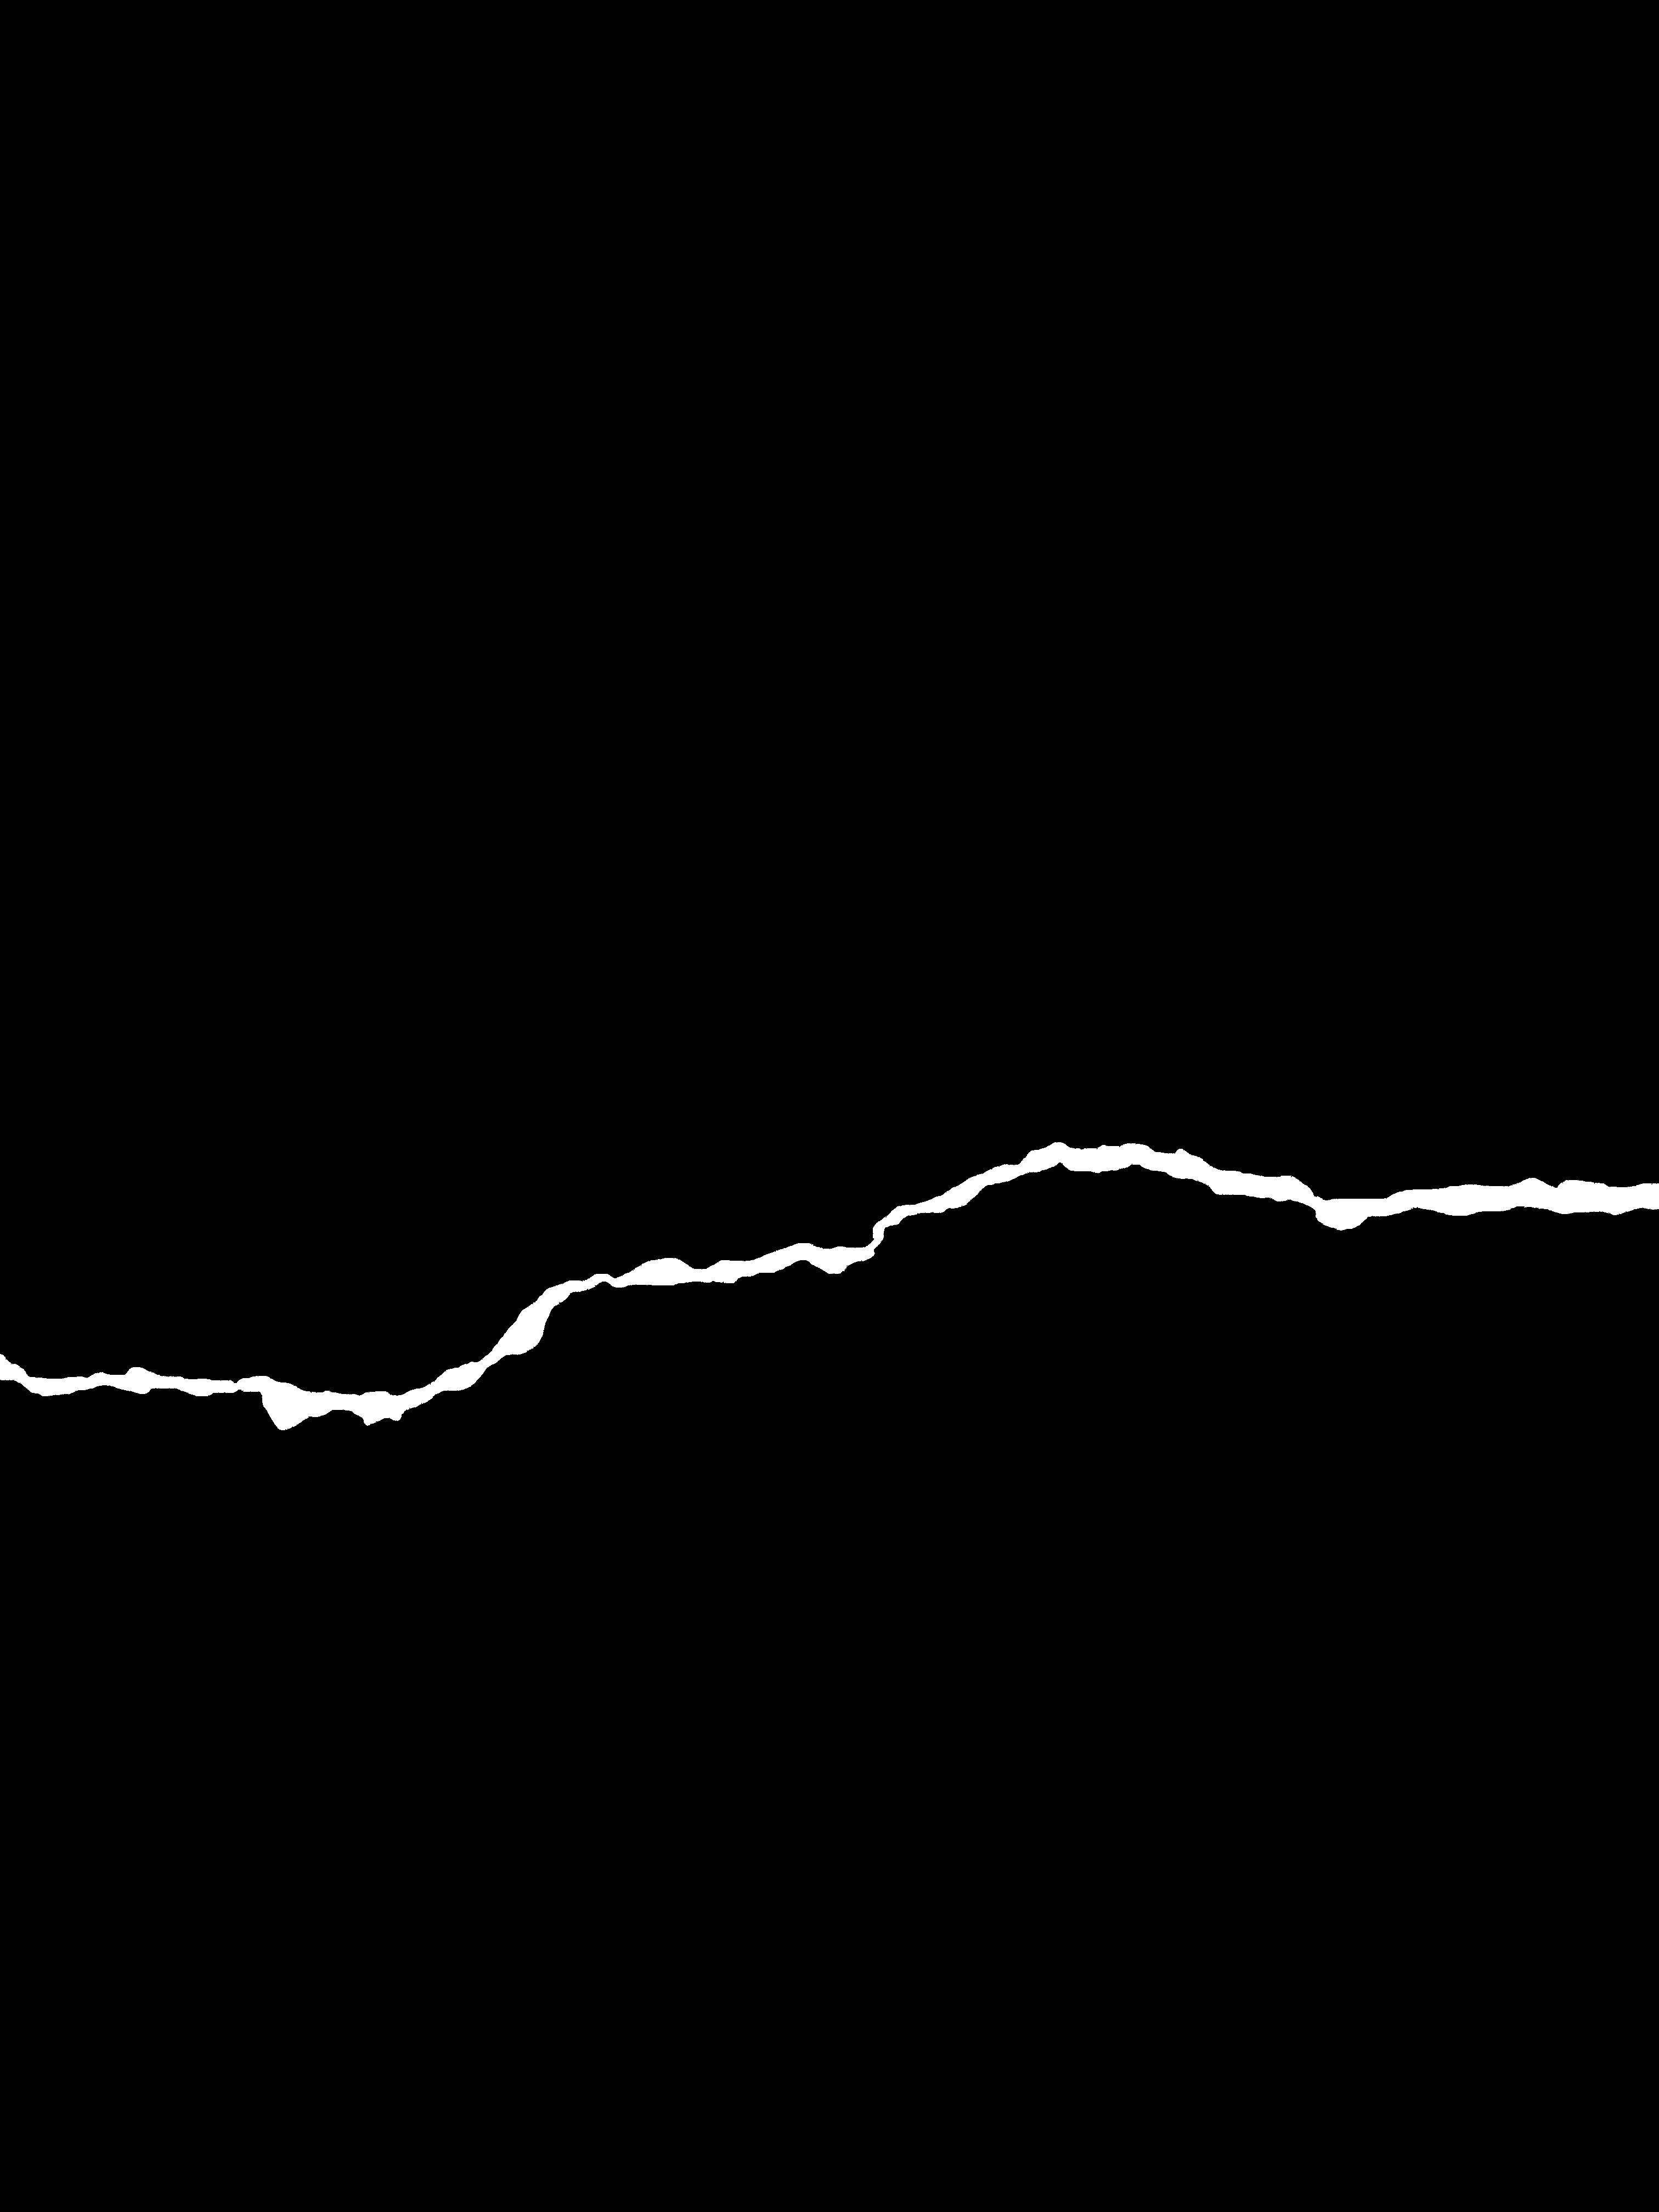Crack: (0, 1125, 1659, 1453)
